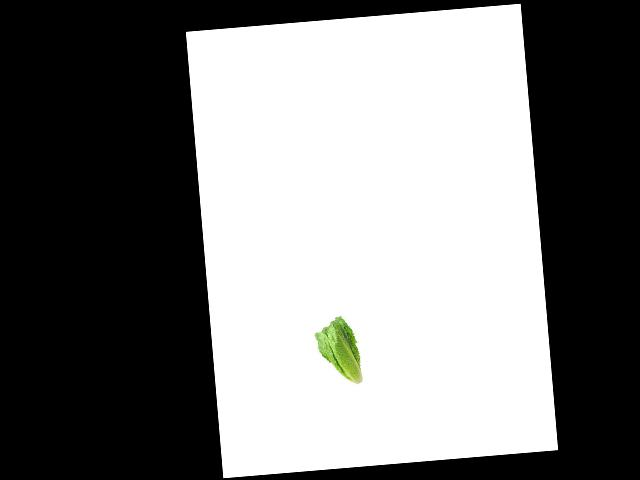lettuce: (313, 314, 364, 393)
